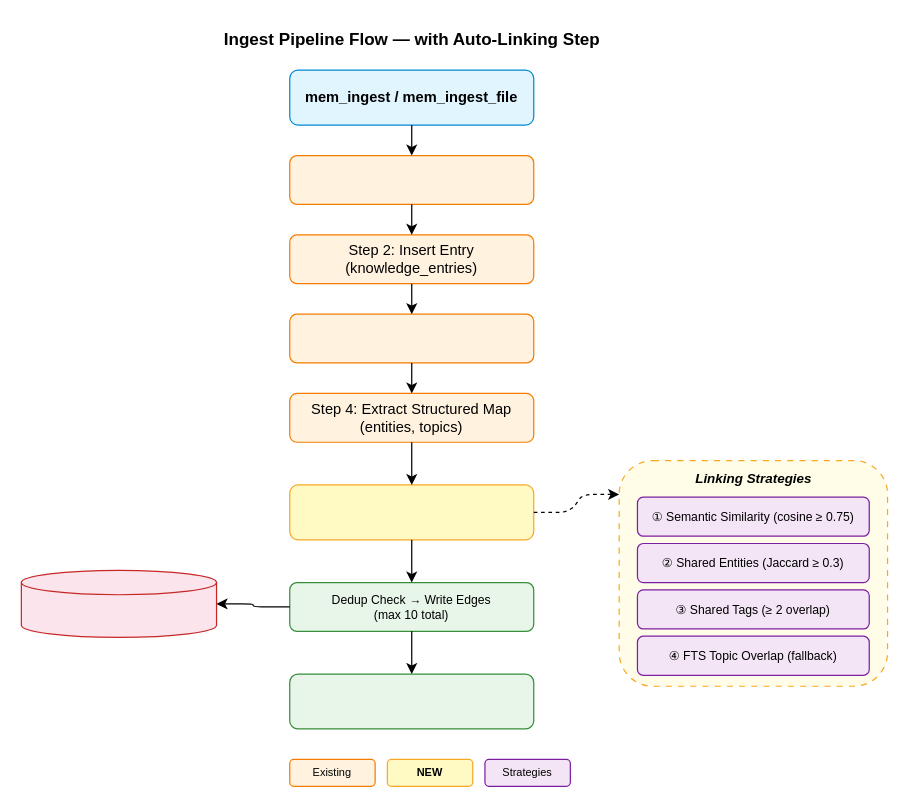
The diagram is 909 pixels wide and 808 high, and some of its shapes have lost their labels. The shapes that lost their labels are listed below. From the top down, each one's centre as x and y in pixels, then its label:
At (411,179): "Step 1: Quality Gate Validation".
At (411,338): "Step 3: Generate Embedding (knowledge_vectors)".
At (411,512): "Step 5: AUTO-LINK (NEW)".
At (118,603): "knowledge_graph_edges".
At (411,701): "Step 6: Return Result (includes link count)".
